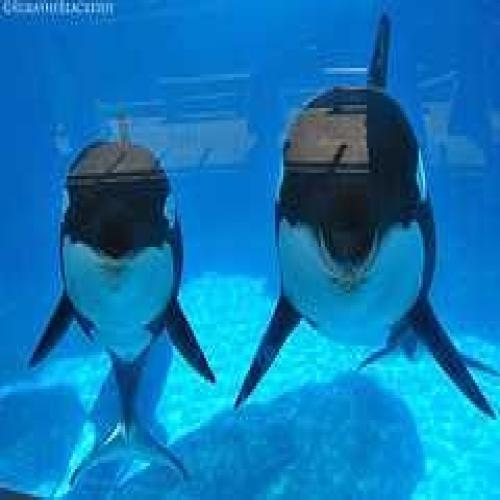killer_whale-endangered: (258, 61, 458, 376), (43, 107, 218, 386)
